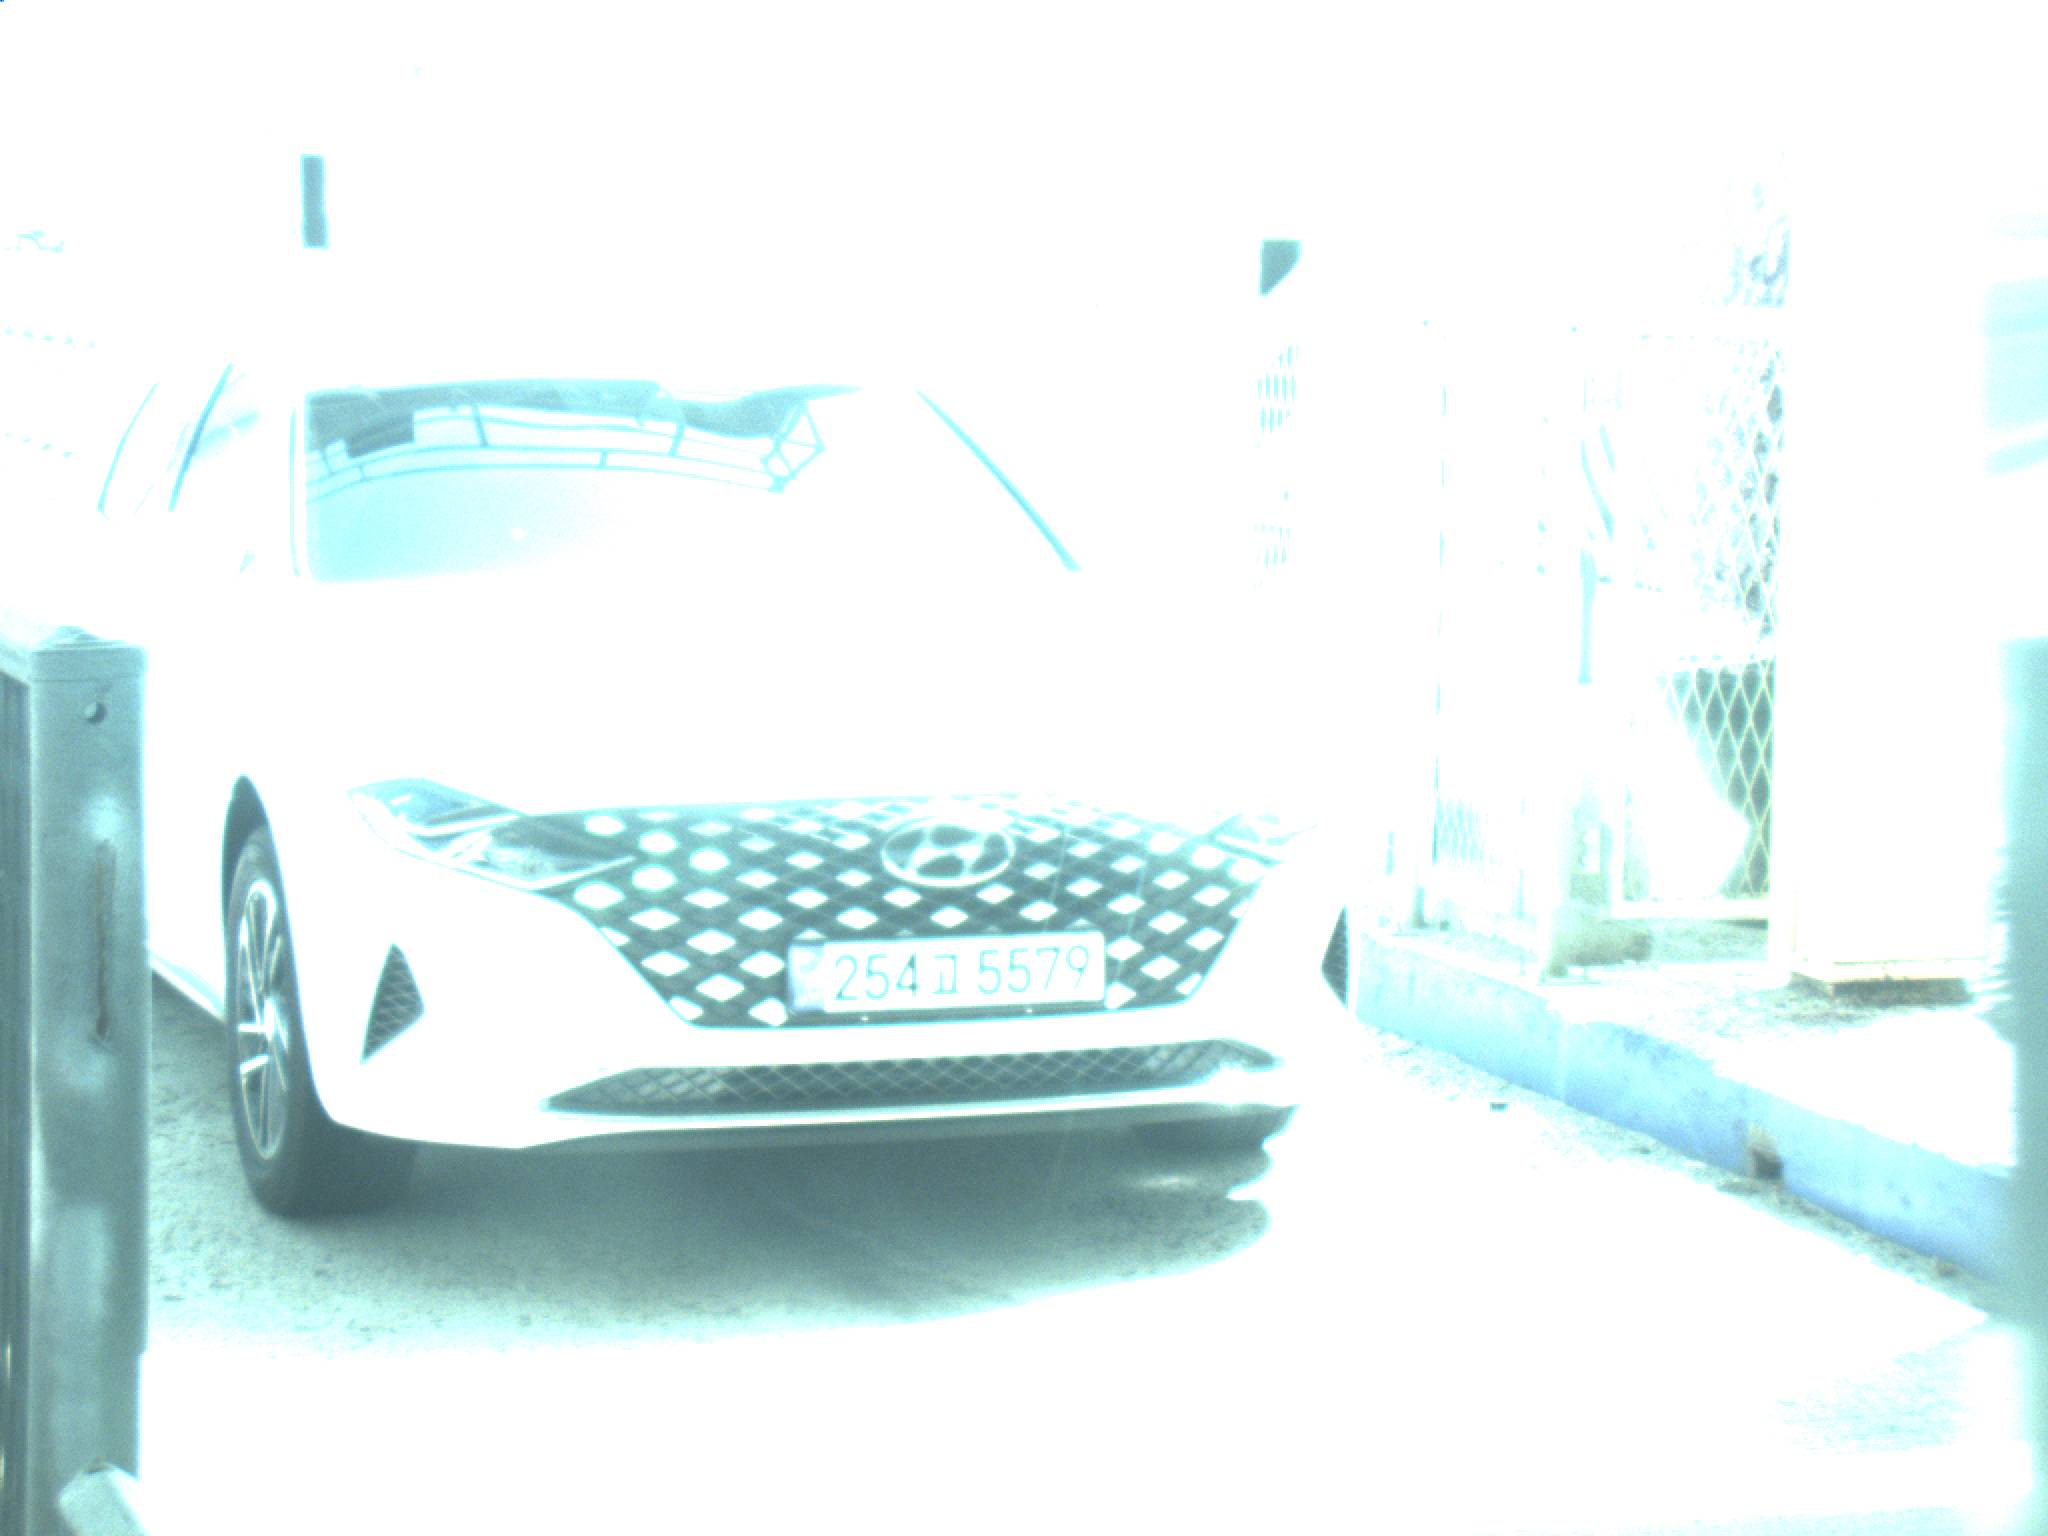car: (16, 315, 1314, 1228)
plate: (782, 923, 1112, 1015)
